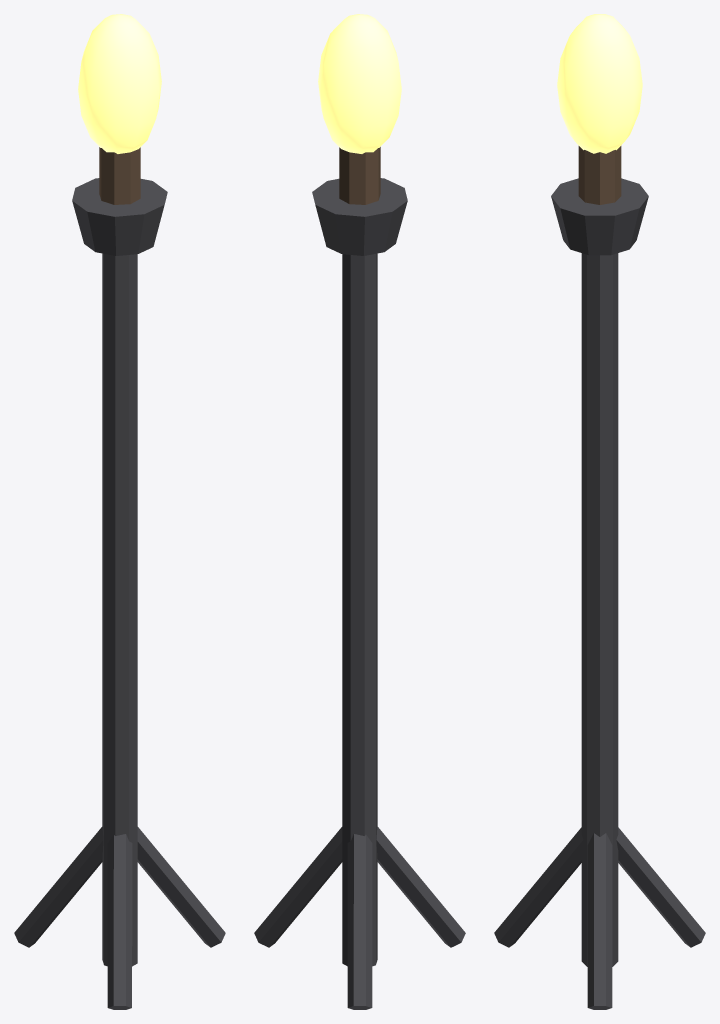
The model's file is TorchStand.glb.
The picture shows the model from 3 angles, left to right: view 1: azimuth 30°, elevation 25°; view 2: azimuth 150°, elevation 25°; view 3: azimuth 270°, elevation 25°; orthographic projection.
Parts seen in each view (by area): view 1: TorchStand; view 2: TorchStand; view 3: TorchStand.
Part boxes in pixels (<box>): TorchStand: <box>14,14,225,1009</box>; TorchStand: <box>254,14,465,1009</box>; TorchStand: <box>494,14,705,1009</box>.
Size of the model in its own units: 0.3015 by 1.72 by 0.3461.
